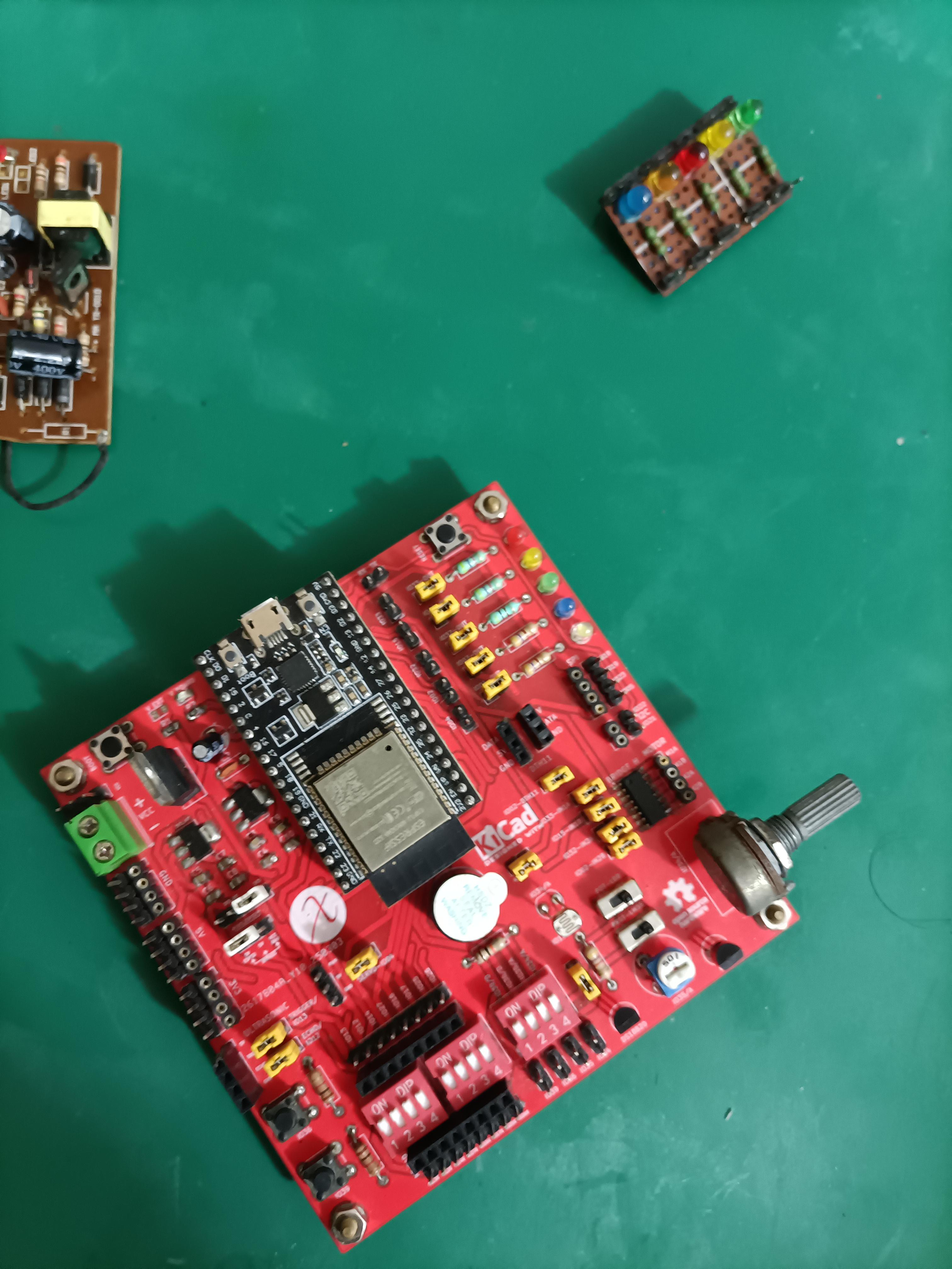LED: (729, 91, 770, 143), (609, 178, 650, 220), (700, 119, 735, 160), (672, 137, 710, 173), (642, 161, 680, 195), (563, 617, 603, 647), (551, 591, 582, 621), (535, 567, 566, 596), (500, 522, 533, 546), (520, 544, 547, 571), (0, 143, 7, 164)
Resistencia: (301, 1073, 324, 1122), (577, 952, 600, 1001), (347, 1148, 370, 1197), (462, 956, 518, 976), (653, 219, 699, 242), (679, 199, 724, 222), (708, 178, 753, 201), (735, 160, 780, 183), (766, 140, 811, 163), (464, 593, 511, 612), (482, 619, 529, 638), (445, 567, 492, 586), (497, 641, 543, 660), (511, 668, 557, 687), (11, 280, 27, 322), (52, 152, 68, 191), (35, 157, 48, 199), (33, 299, 46, 336), (54, 310, 67, 339)
